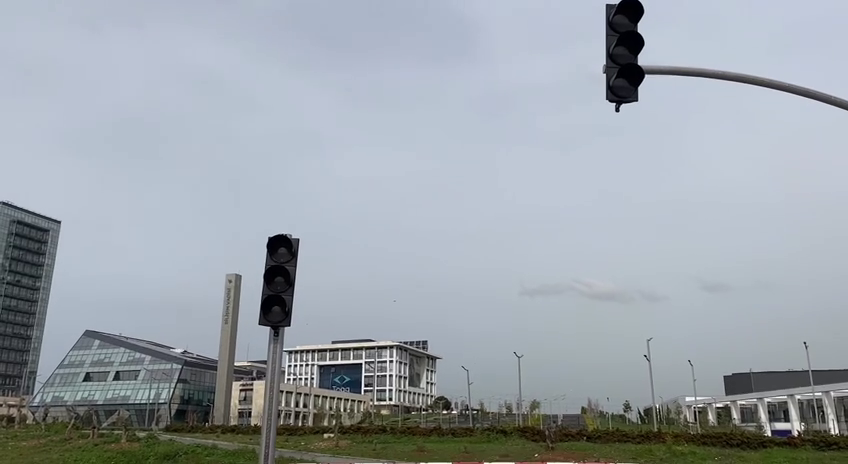trafficLight: (601, 1, 649, 113), (254, 232, 304, 335)
